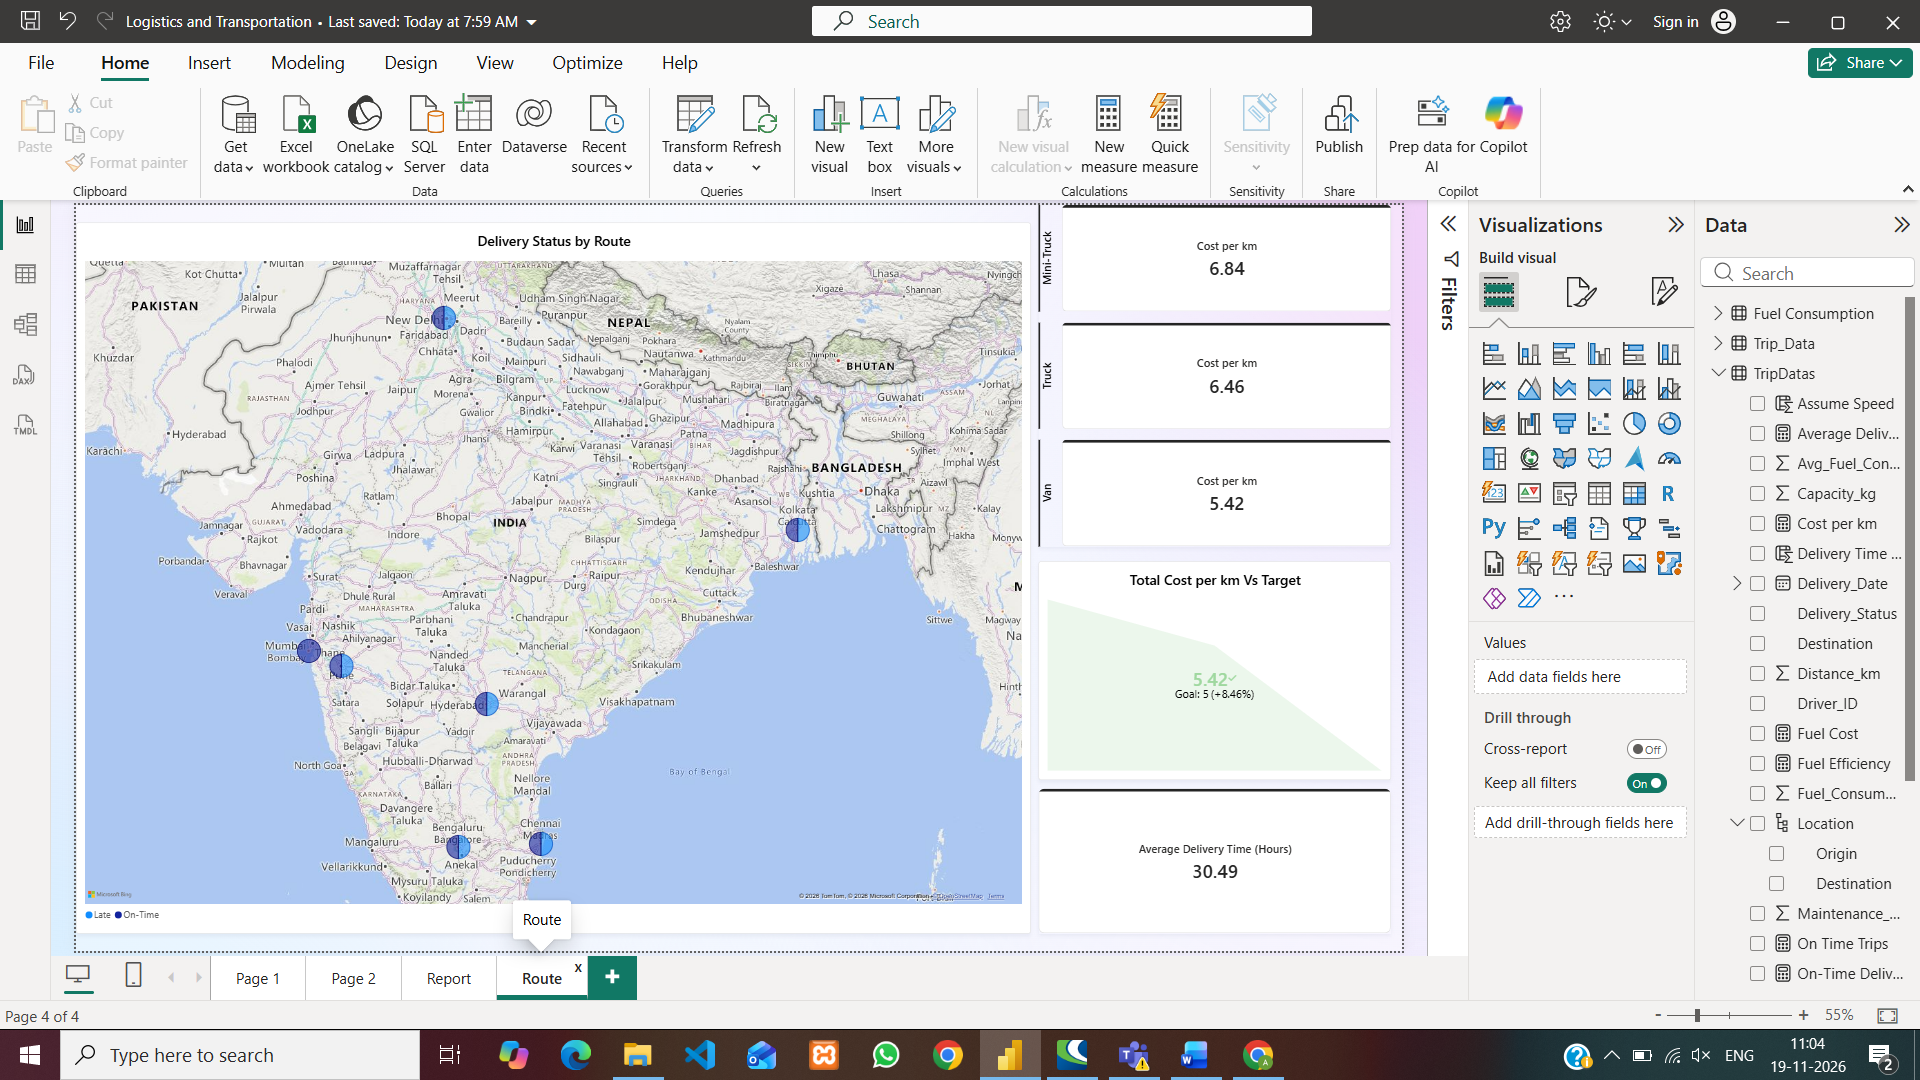

What the dashboard file says about the page in this screenshot:
{"tool":"powerbi","page":{"name":"Route","canvas":[1920,1080],"ordinal":3},"visuals":[{"type":"map","title":" Delivery Status by Route","fields":{"Category":["TripDatas.Location.Origin","TripDatas.Location.Destination"],"Series":["TripDatas.Delivery_Status"]},"box":[0,25.3,1382.6,1029.7],"z":0},{"type":"cardVisual","fields":{"Data":["TripDatas.Cost per km"],"Rows":["TripDatas.Vehicle_type"]},"box":[1393.4,0,510.3,494],"z":1},{"type":"kpi","title":"Total Cost per km Vs Target","fields":{"Goal":["TripDatas.Target"],"Indicator":["TripDatas.Cost per km"],"TrendLine":["TripDatas.Vehicle_type"]},"box":[1393.4,515.8,510.3,316.7],"z":2},{"type":"cardVisual","fields":{"Data":["TripDatas.Average Delivery Time (Hours)"]},"box":[1393.4,845.1,510.3,209.9],"z":3}]}

Visuals, with their boxes on the page's 1920x1080 design canvas (x1, y1, x2, y2). These are canvas units, not pixel positions in the 1920x1080 screenshot, which may show the page scaled, cropped or inside an application window:
" Delivery Status by Route" map: [left=0, top=25, right=1383, bottom=1055]
cardVisual - TripDatas.Cost per km x TripDatas.Vehicle_type: [left=1393, top=0, right=1904, bottom=494]
"Total Cost per km Vs Target" kpi: [left=1393, top=516, right=1904, bottom=832]
cardVisual - TripDatas.Average Delivery Time (Hours): [left=1393, top=845, right=1904, bottom=1055]
